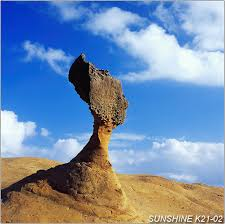yehliu: (58, 51, 135, 132)
